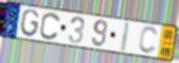3: (68, 16, 86, 45)
9: (90, 18, 109, 48)
C: (39, 11, 62, 42), (137, 26, 159, 56)
G: (19, 8, 41, 38)
I: (118, 21, 132, 54)
